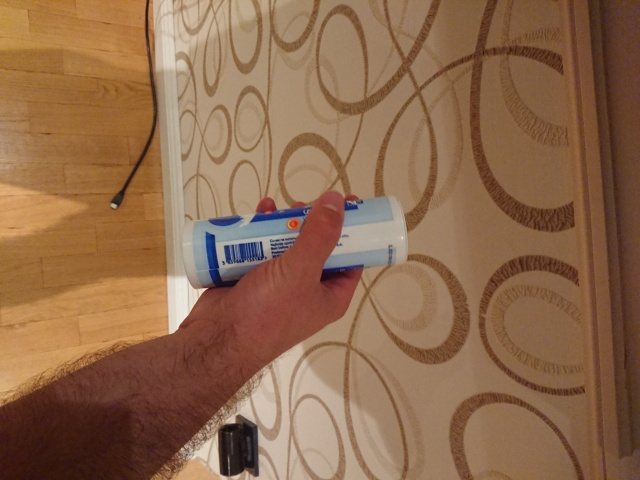Solana Pag Fine Sea Salt 250g: (178, 192, 413, 292)
